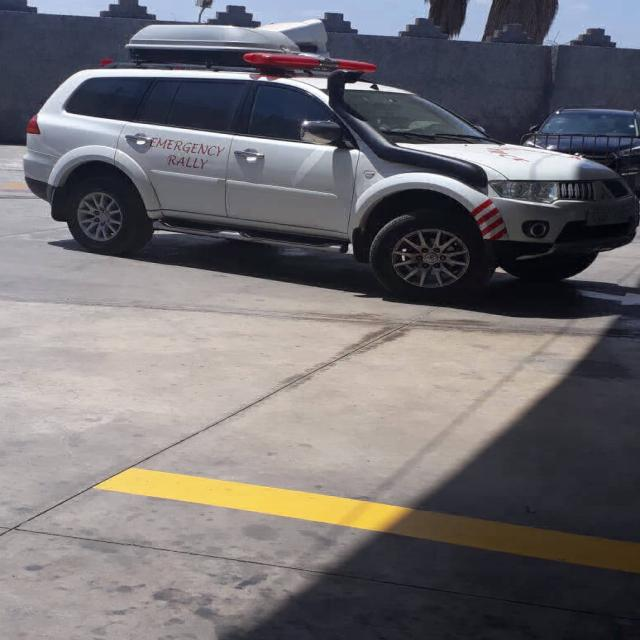ambulance: (34, 30, 630, 307)
